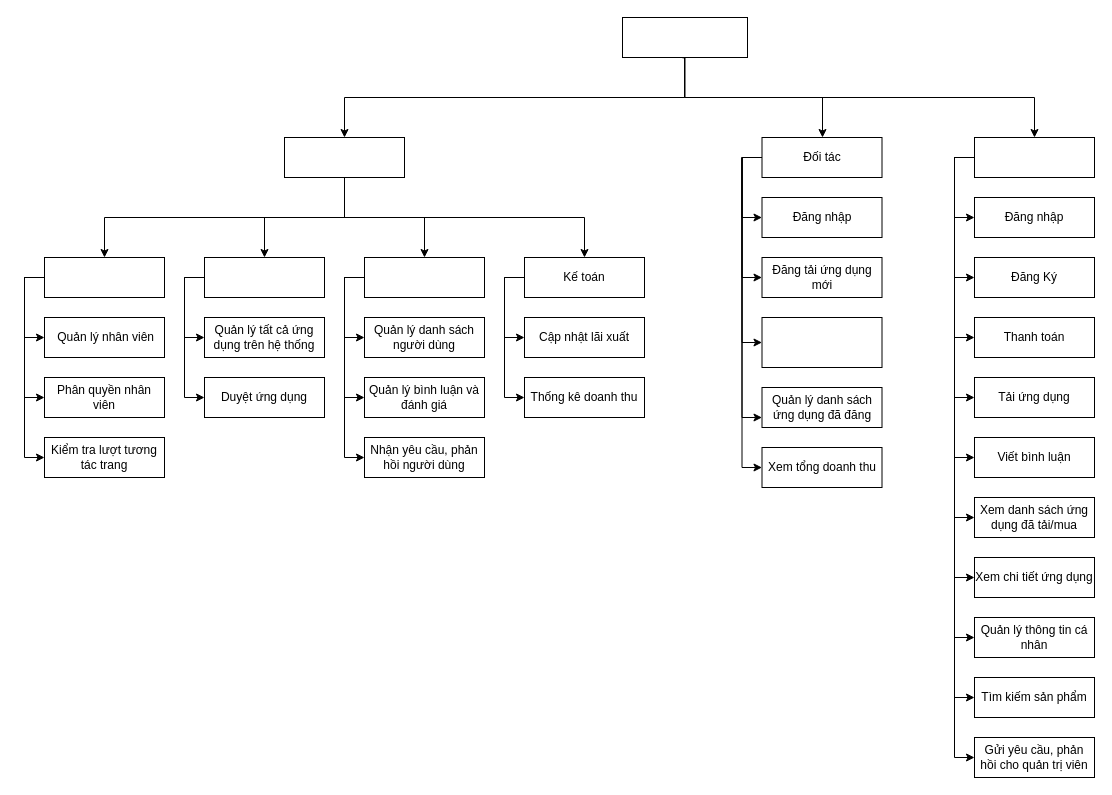
Image size: 1112x795. Some labels were removed from this diagram. The shapes that lost their labels are listed below. From the top down, each one's centre as x and y in pixels, then its label:
At point 685,37: "DKApp Store".
At point 344,157: "Quản lý website".
At point 1034,157: "Khách hàng".
At point 104,277: "Quản lý".
At point 264,277: "Quản trị viên ứng dụng".
At point 424,277: "quản trị viên người dùng".
At point 821,342: "Cập nhật bản vá, bản sửa lỗi, bản cập nhật mới".
